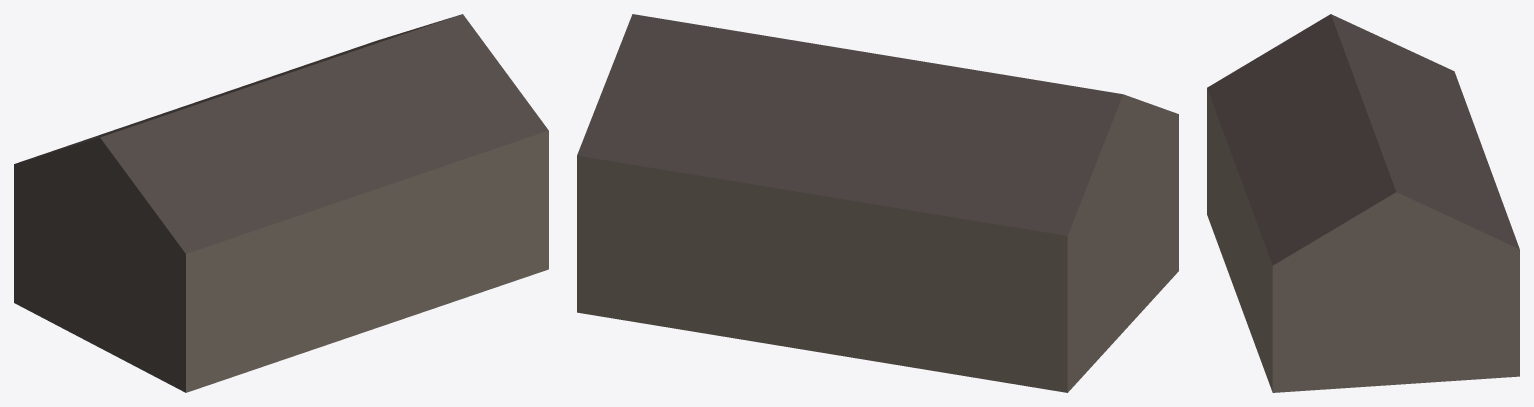
3 renders of one model, left to right at view 1: azimuth 30°, elevation 25°; view 2: azimuth 150°, elevation 25°; view 3: azimuth 270°, elevation 25°, orthographic. The views are drawn at different scales.
Visible parts, largest first — view 1: HP-w859424284; view 2: HP-w859424284; view 3: HP-w859424284.
Part boxes in pixels (<box>): HP-w859424284: <box>14,14,548,392</box>; HP-w859424284: <box>577,14,1178,392</box>; HP-w859424284: <box>1207,14,1519,392</box>.
Bounding box in the file's own units: 19.68 × 9.09 × 13.37.
